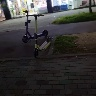beam: (18, 9, 49, 43)
gcooter: (24, 13, 54, 58)
